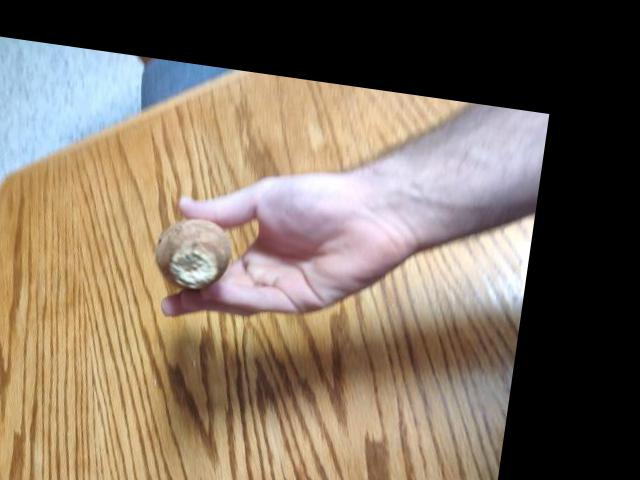sweet_potato: (149, 204, 226, 291)
